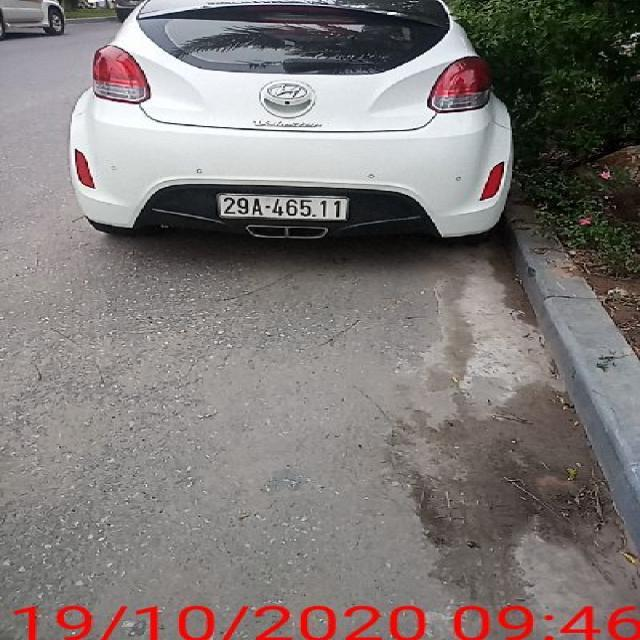bien_so_oto: (214, 192, 349, 222)
